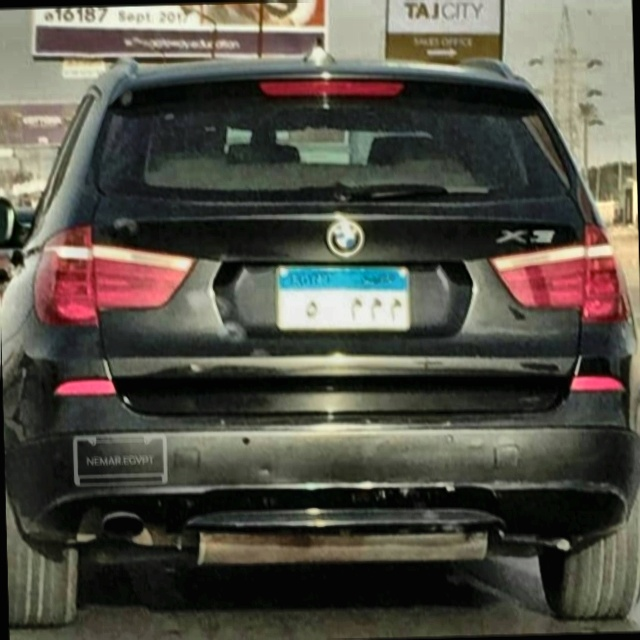License Plate: (270, 255, 414, 338)
